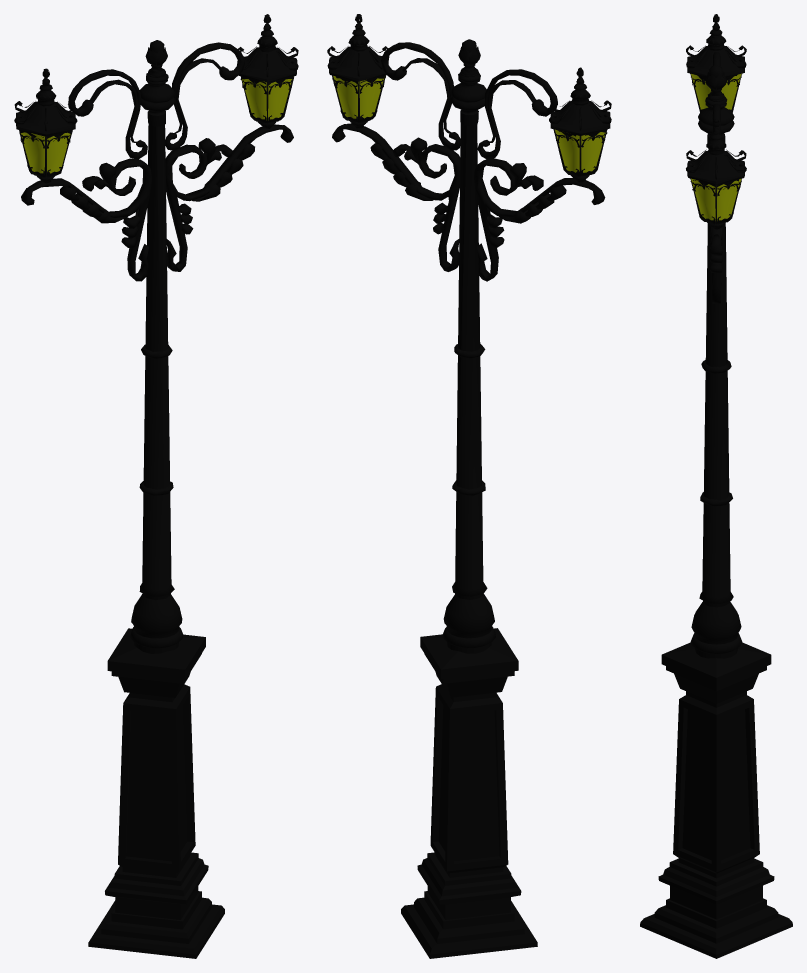
File: Pointstop.fbx
3 views of the same model, side by side, from view 1: azimuth 30°, elevation 25°; view 2: azimuth 150°, elevation 25°; view 3: azimuth 270°, elevation 25° (orthographic). The views are drawn at different scales.
Visible parts, largest first — view 1: Pointstop; view 2: Pointstop; view 3: Pointstop.
Part boxes in pixels (x1,y1,x2,y2): Pointstop: [14, 14, 298, 958]; Pointstop: [327, 14, 611, 958]; Pointstop: [640, 14, 792, 958].
Bounding box in the file's own units: 115 × 343 × 55.14.
